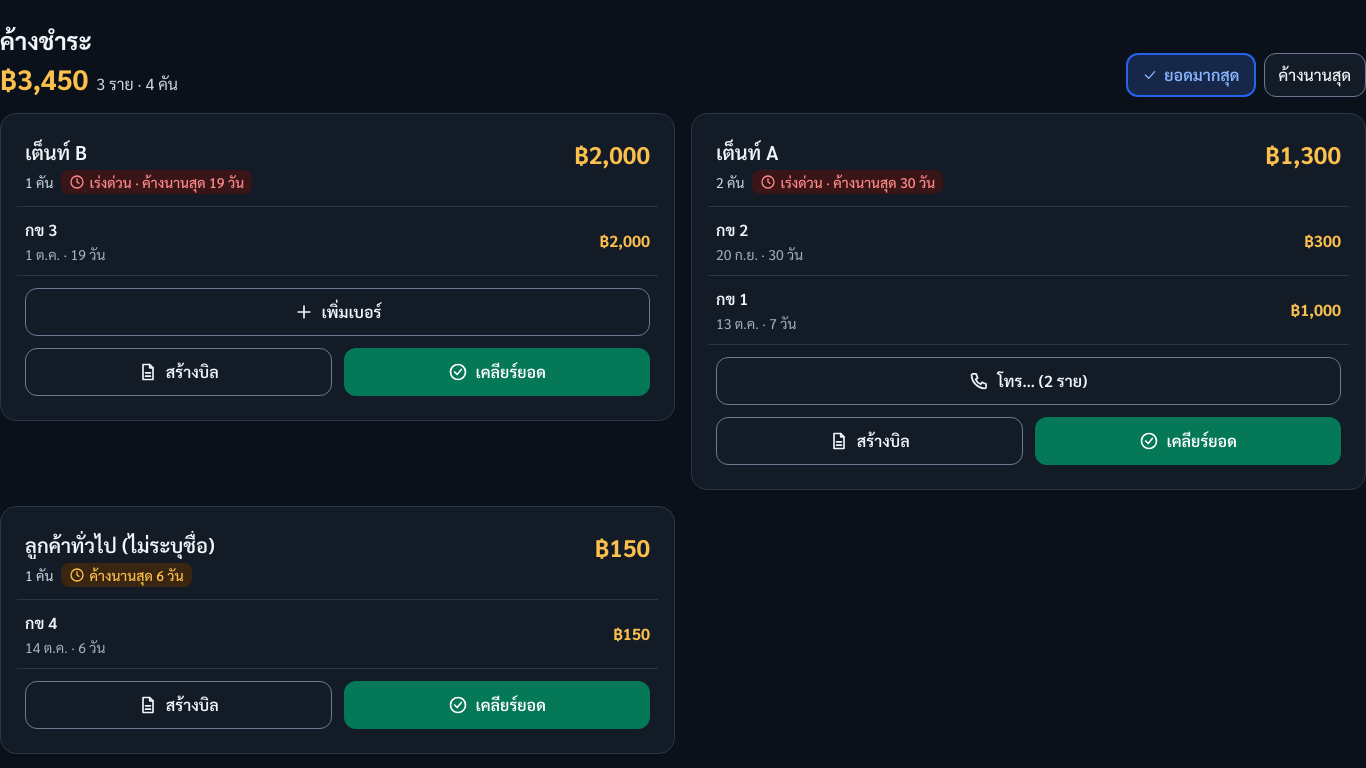
Test: DebtsScreen › lets the user pick when several customers match (AC-10-2)
This screenshot has width=1366, height=768.
Click the button with aria-label "โทร… (2 ราย) เต็นท์ A" at coordinates (1028, 381), box [716,357,1341,405]
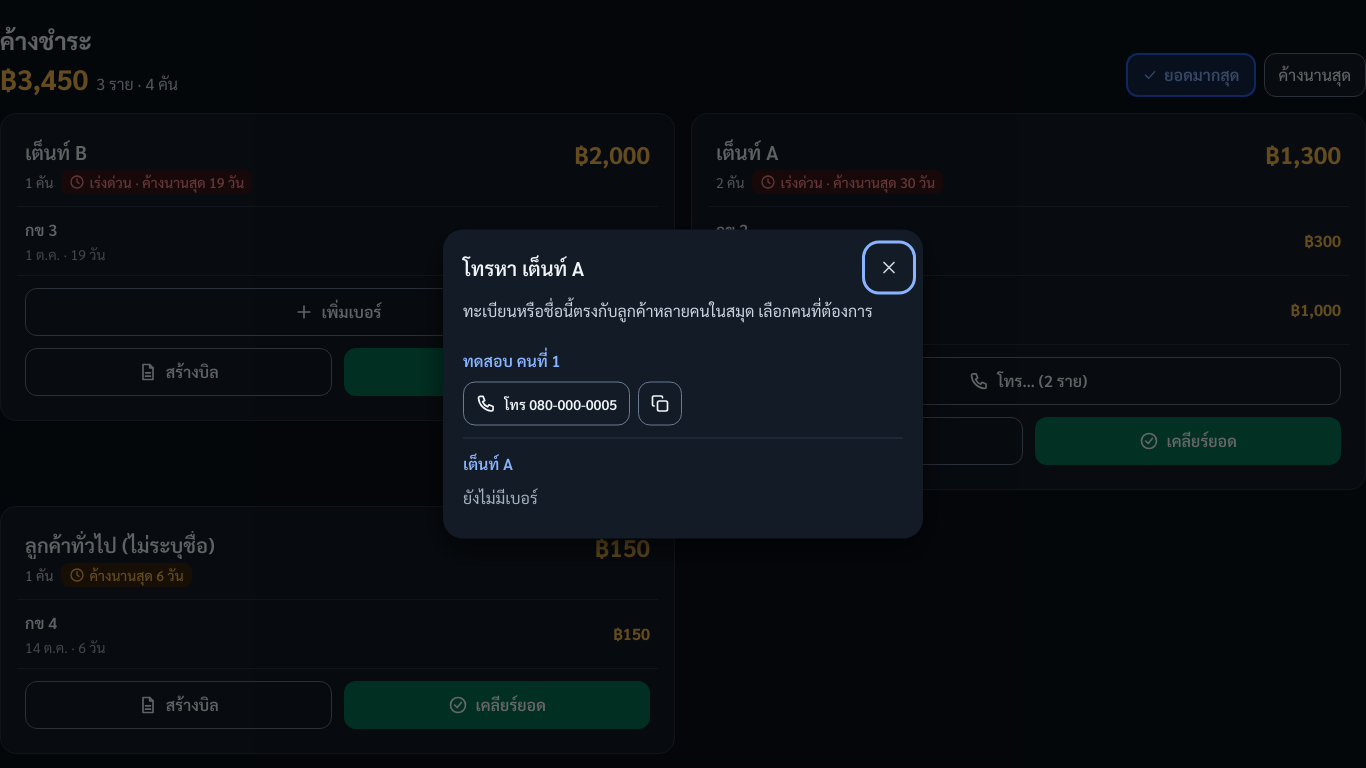
Expected: the link with aria-label "โทร 080-000-0005 ทดสอบ คนที่ 1" is shown, [463,382,630,426]
Expected: the text "ยังไม่มีเบอร์" is shown, [463,486,538,508]
